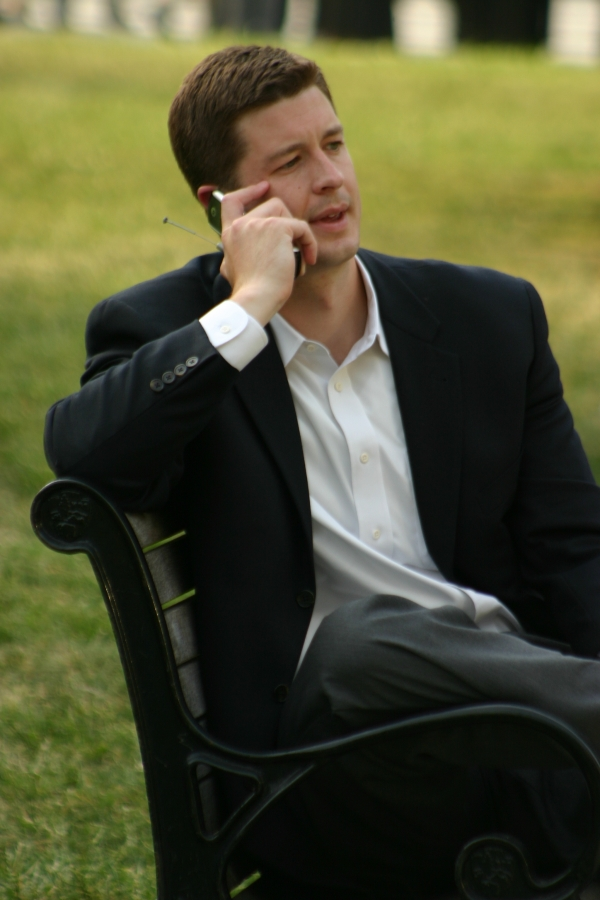phone: (202, 184, 311, 288)
talk: (203, 118, 361, 295)
